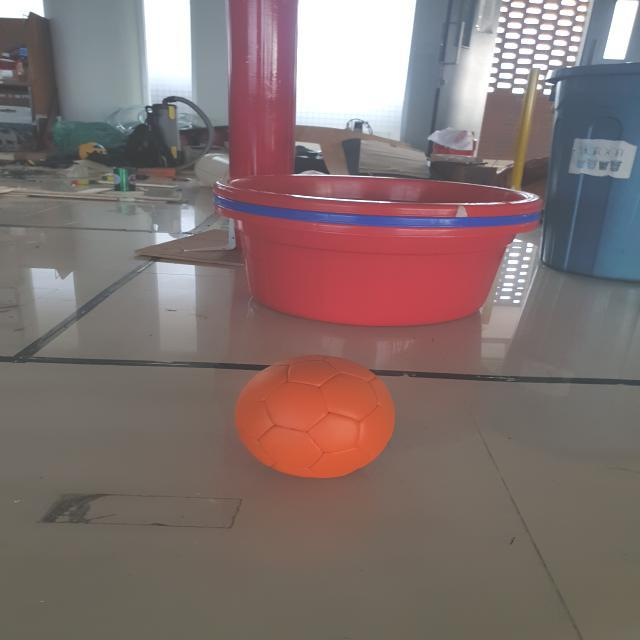bola: (214, 344, 401, 486)
